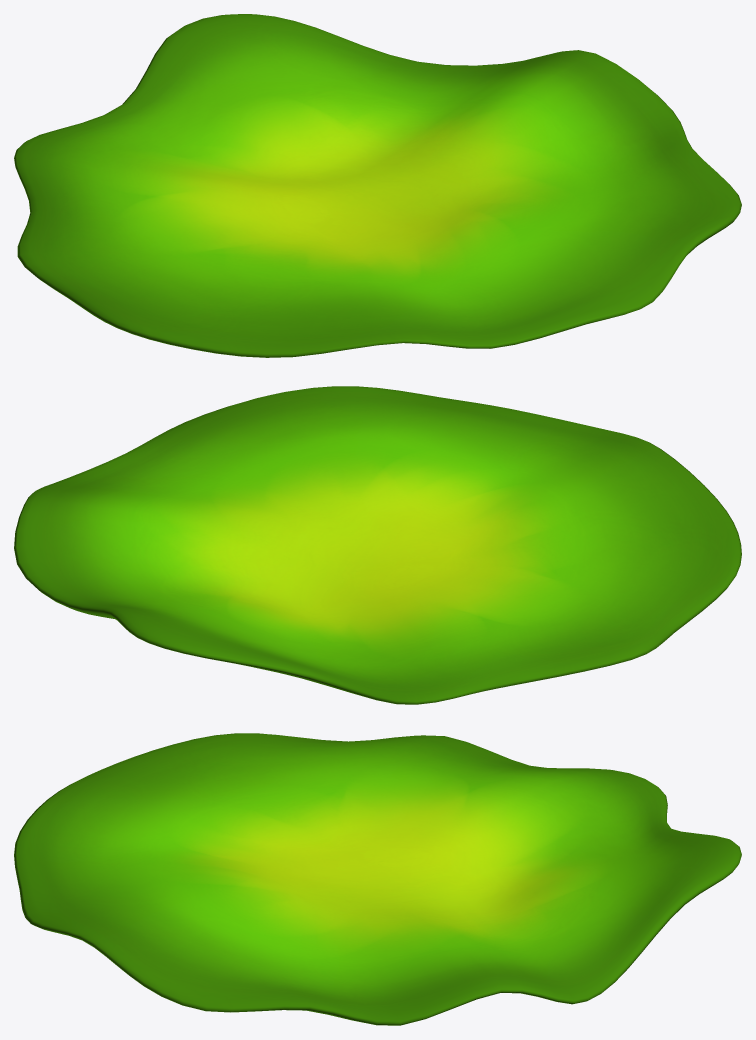
The model's file is Lettuce.obj.
3 views of the same model, one above another, from view 1: azimuth 30°, elevation 25°; view 2: azimuth 150°, elevation 25°; view 3: azimuth 270°, elevation 25° (orthographic). The views are drawn at different scales.
Visible parts, largest first — view 1: pasted__polySurface30 pasted__polySurface18 group13; view 2: pasted__polySurface30 pasted__polySurface18 group13; view 3: pasted__polySurface30 pasted__polySurface18 group13.
Boxes of the visible parts, x1,y1,x2,y2 form: pasted__polySurface30 pasted__polySurface18 group13: (14,14,741,357); pasted__polySurface30 pasted__polySurface18 group13: (14,386,741,704); pasted__polySurface30 pasted__polySurface18 group13: (14,733,741,1025).
Size of the model in its own units: 2.03 by 0.2126 by 2.09.
1 material, 1 textured.
